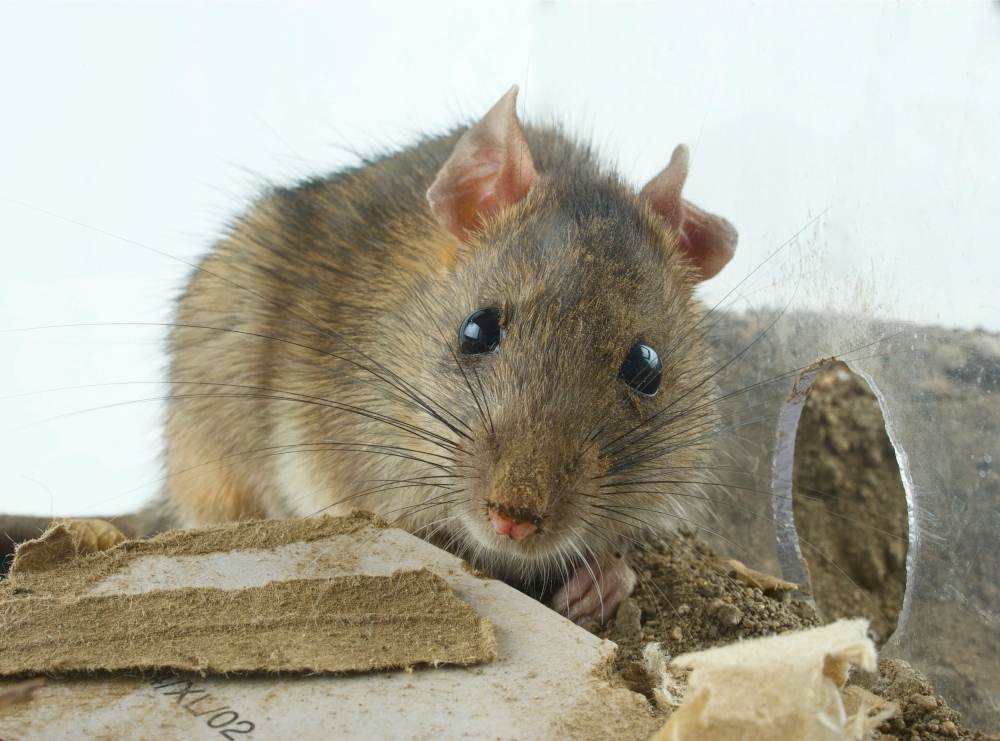rat: (141, 74, 758, 620)
